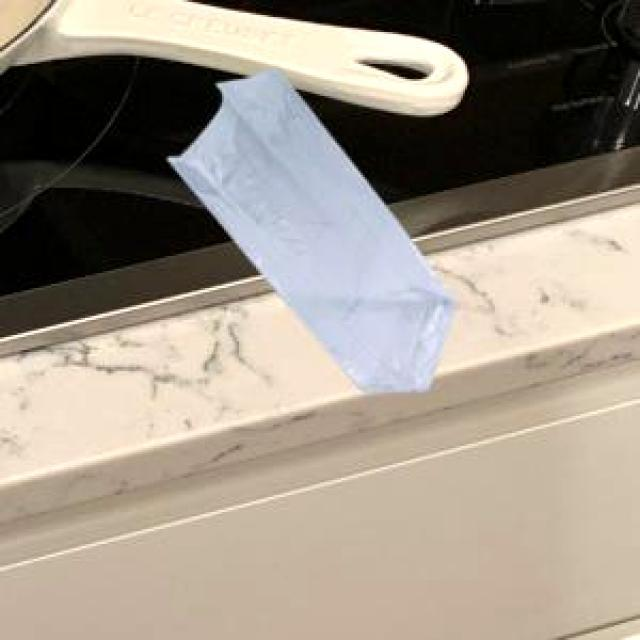Plastic_Bag: (165, 64, 454, 390)
